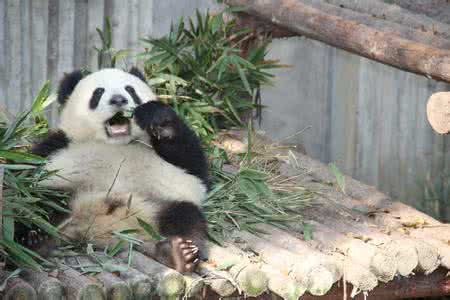panda: (42, 67, 211, 273)
